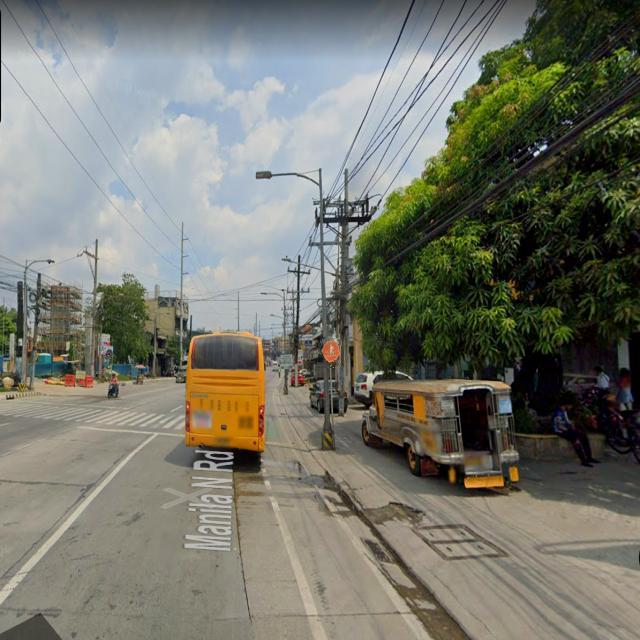pedestrian crossing: (318, 337, 341, 368)
